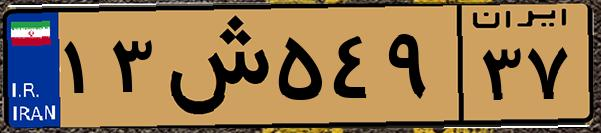1: (57, 26, 110, 100)
3: (475, 38, 525, 113), (110, 28, 158, 98)
4: (330, 28, 385, 110)
5: (270, 28, 330, 110)
7: (525, 38, 570, 115)
9: (385, 28, 445, 110)
ش: (158, 12, 270, 120)
